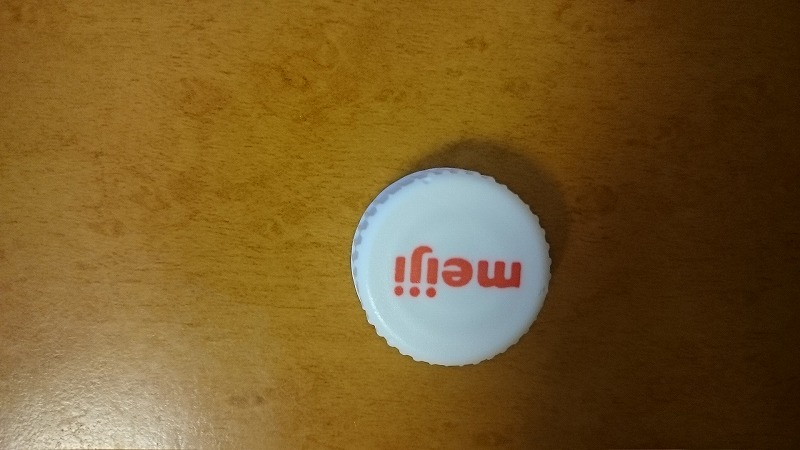B: (347, 160, 564, 372)
